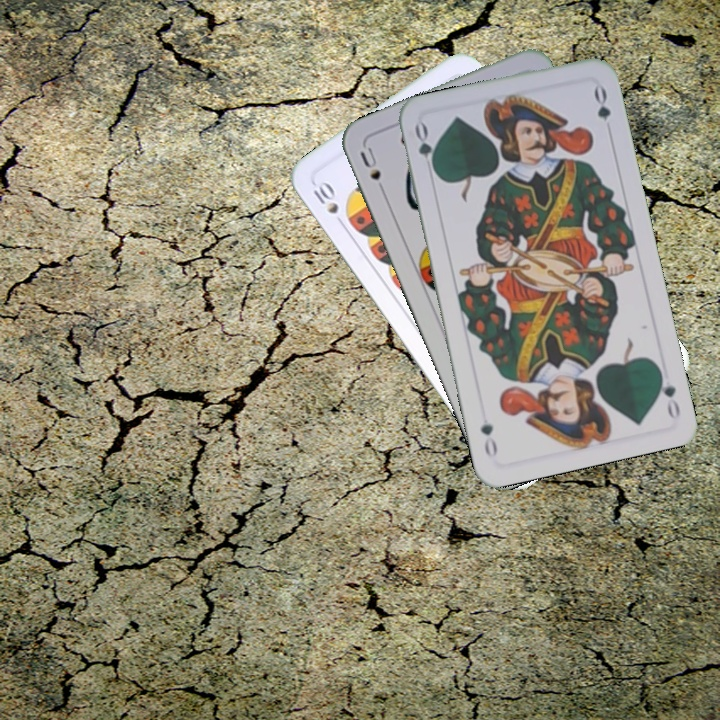GO: (410, 119, 440, 178), (654, 363, 683, 421)
S10: (309, 177, 341, 217)
SU: (356, 143, 390, 199)
